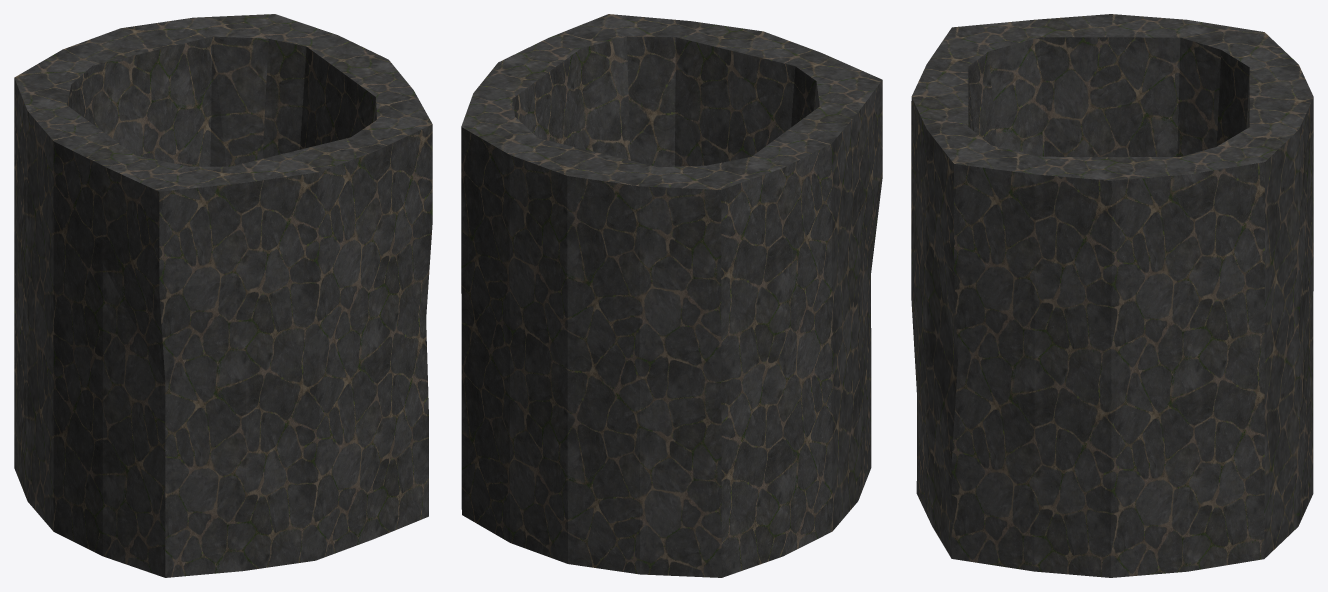
File: house7.obj
3 renders of one model, left to right at view 1: azimuth 30°, elevation 25°; view 2: azimuth 150°, elevation 25°; view 3: azimuth 270°, elevation 25°, orthographic. The views are drawn at different scales.
Parts seen in each view (by area): view 1: 立方体.007; view 2: 立方体.007; view 3: 立方体.007.
Part boxes in pixels (left/top/right/bottom): 立方体.007: left=14, top=14, right=432, bottom=577; 立方体.007: left=461, top=14, right=882, bottom=577; 立方体.007: left=911, top=14, right=1313, bottom=577.
Bounding box in the file's own units: 18 × 20.03 × 18.37.
1 material, 1 textured.
